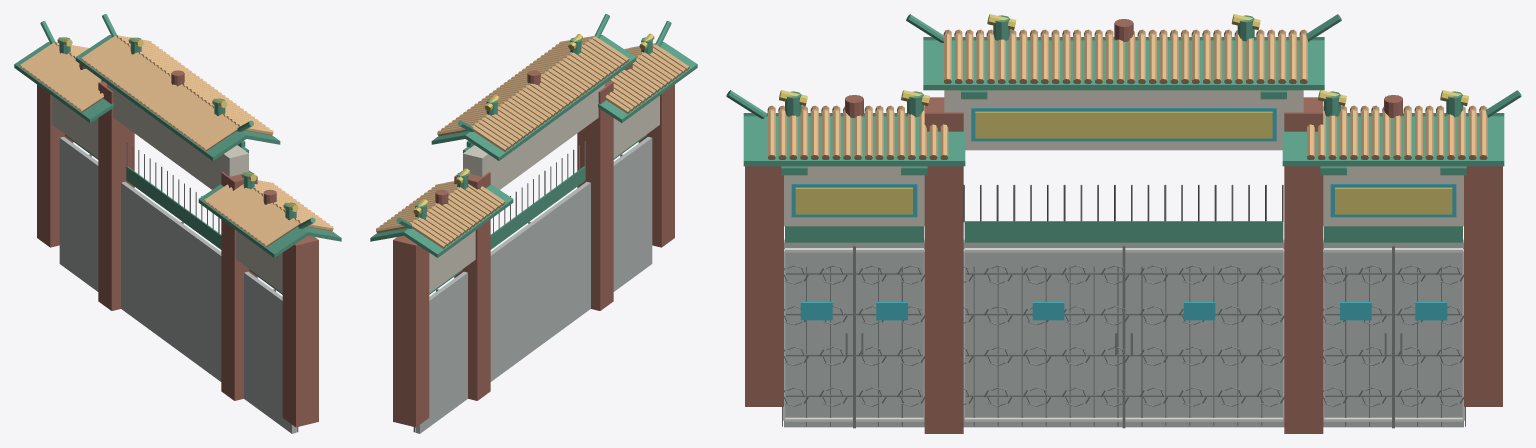
The model's file is dining-west-gate.glb.
3 renders of one model, left to right at view 1: azimuth 30°, elevation 25°; view 2: azimuth 150°, elevation 25°; view 3: azimuth 270°, elevation 25°, orthographic. The views are drawn at different scales.
Visible parts, largest first — view 1: dining-west-gate; view 2: dining-west-gate; view 3: dining-west-gate.
Boxes of the visible parts, left/top/right/bottom form: dining-west-gate: left=14, top=14, right=341, bottom=433; dining-west-gate: left=370, top=14, right=697, bottom=433; dining-west-gate: left=726, top=14, right=1521, bottom=433.
Bounding box in the file's own units: 1.95 × 7.58 × 13.28.
